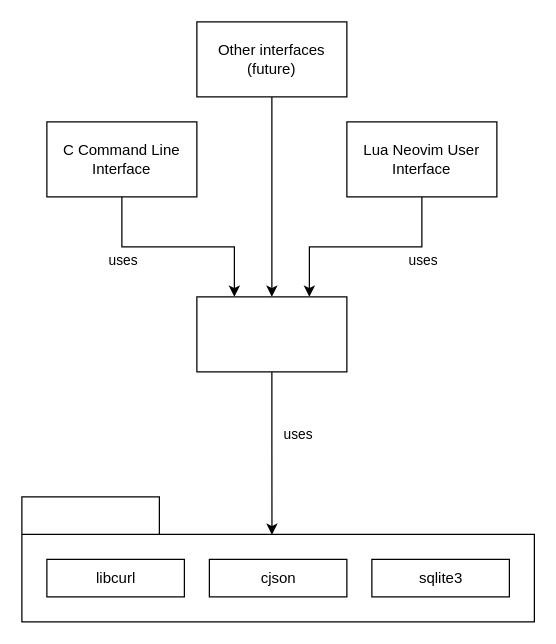
Image size: 556x644. Some labels were removed from this diagram. Each missing label, with the box of its shape:
C Library: (196, 296, 347, 372)
External Libs: (21, 496, 534, 622)
